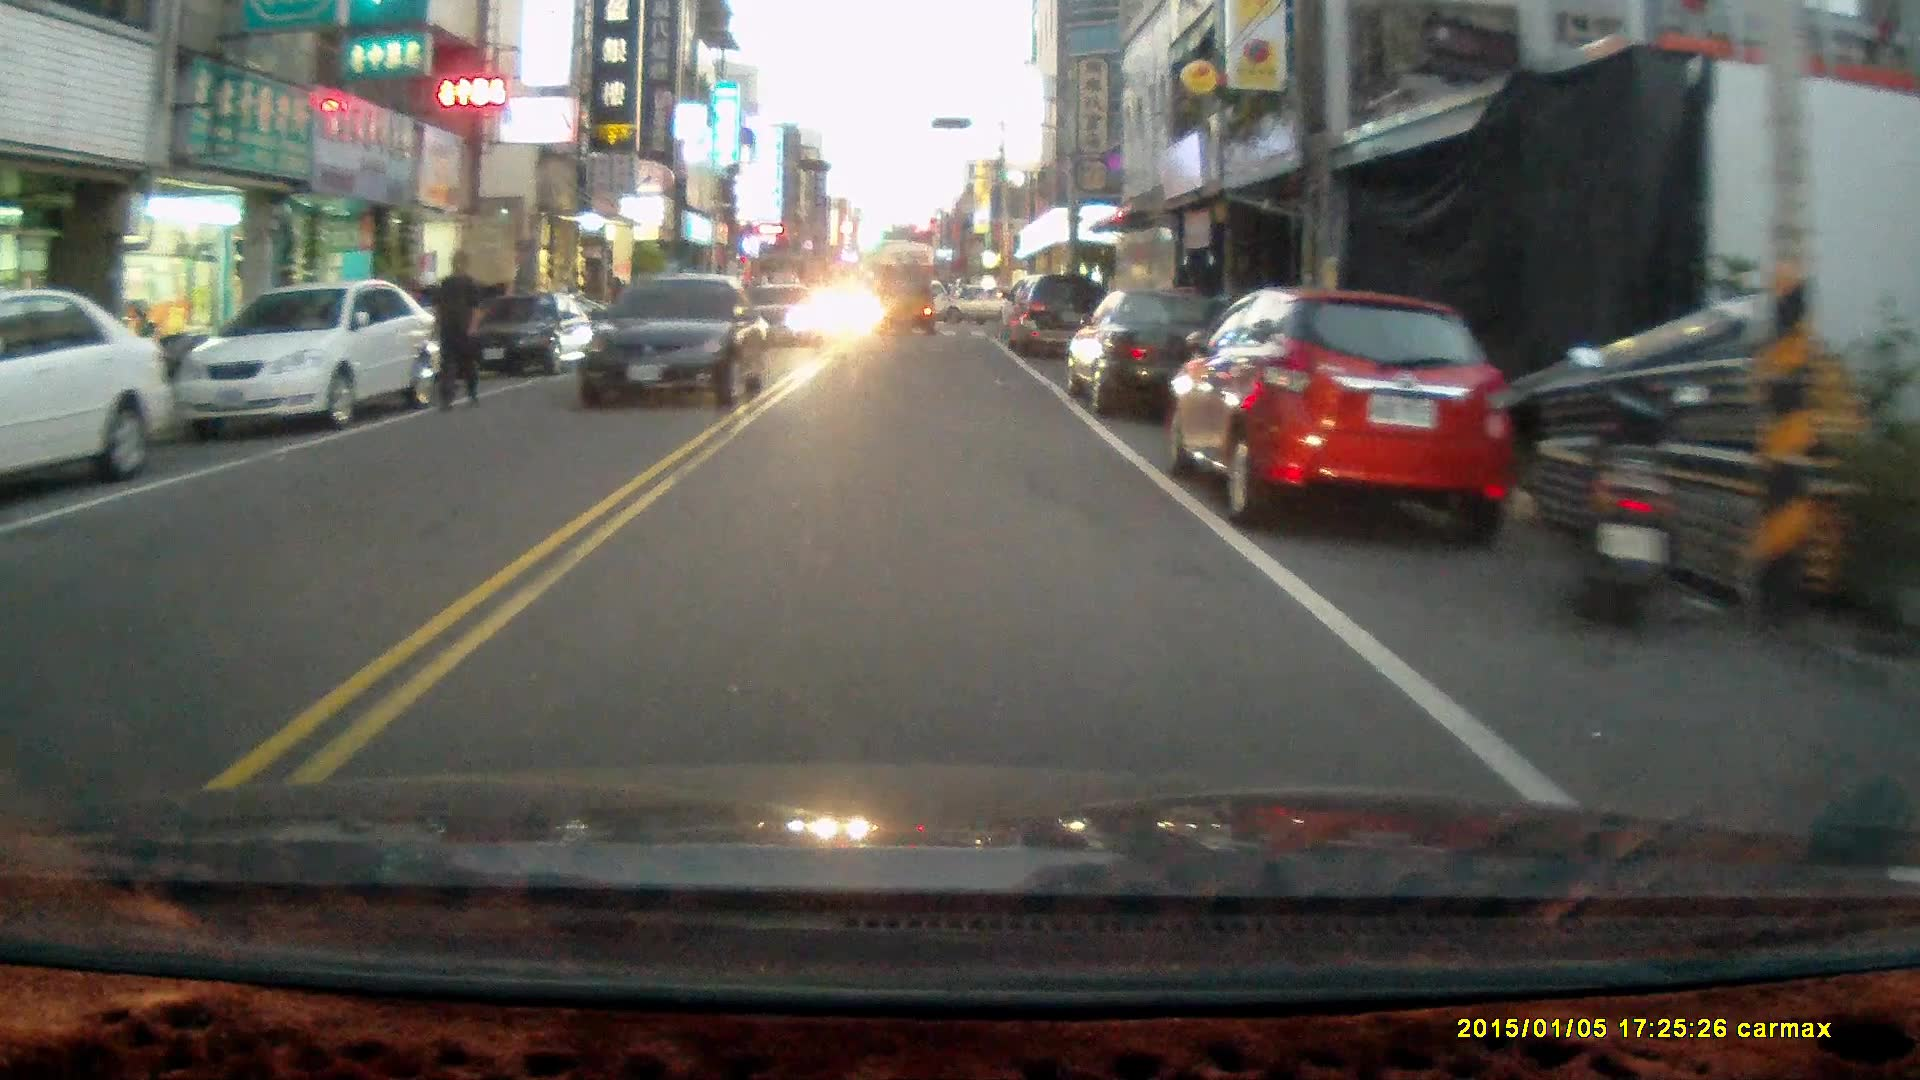pedestrian: (422, 248, 486, 415)
vehicle: (1170, 292, 1526, 541), (178, 276, 443, 431), (1, 289, 176, 504), (573, 270, 773, 409), (1065, 286, 1235, 422), (464, 289, 594, 384), (998, 270, 1115, 362), (871, 264, 938, 337)
